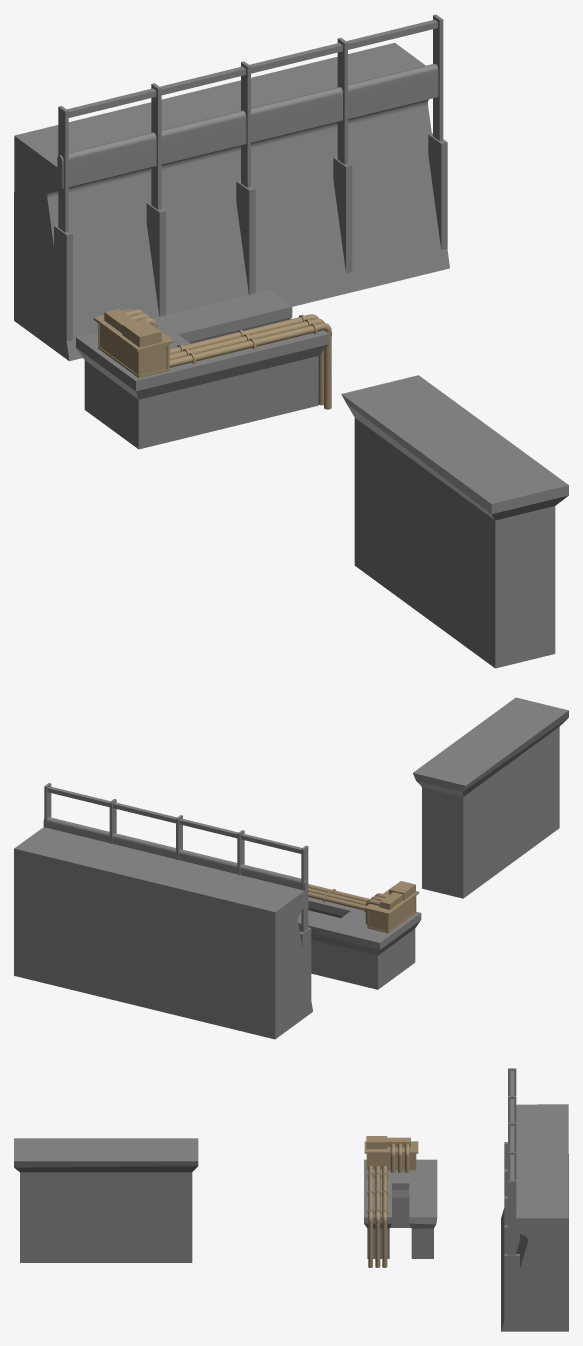
Rendered from DamBase1.fbx.
3 views of the same model, one above another, from view 1: azimuth 30°, elevation 25°; view 2: azimuth 150°, elevation 25°; view 3: azimuth 270°, elevation 25° (orthographic). The views are drawn at different scales.
Visible parts, largest first — view 1: pCube19, pCube7, pCube61, pCube68; view 2: pCube19, pCube7, pCube61, pCube68; view 3: pCube7, pCube19, pCube61, pCube68.
Boxes of the visible parts, <box> form: pCube19: <box>14,14,449,361</box>; pCube7: <box>341,375,568,668</box>; pCube61: <box>76,290,329,449</box>; pCube68: <box>93,308,331,409</box>; pCube19: <box>14,783,312,1039</box>; pCube7: <box>413,697,568,898</box>; pCube61: <box>298,897,421,989</box>; pCube68: <box>308,881,419,933</box>; pCube7: <box>14,1138,198,1262</box>; pCube19: <box>501,1068,568,1331</box>; pCube61: <box>364,1159,437,1258</box>; pCube68: <box>364,1136,418,1267</box>.
Bounding box in the file's own units: 35.84 × 21.93 × 65.94.
